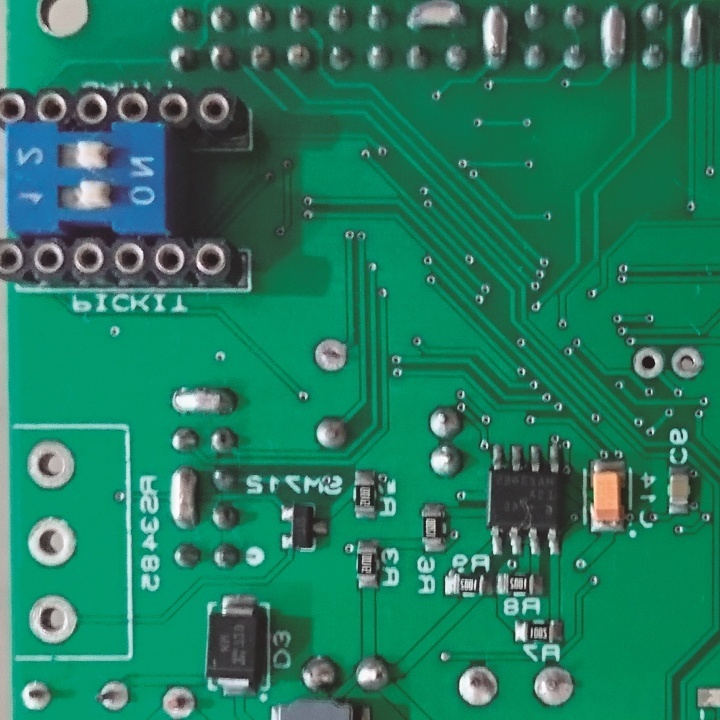F: (21, 438, 76, 492), (26, 515, 77, 568), (27, 593, 77, 646), (456, 663, 500, 711), (531, 665, 577, 708), (93, 678, 130, 714), (314, 336, 347, 376), (19, 678, 53, 715), (669, 345, 704, 380), (631, 346, 664, 380), (161, 686, 196, 718)
P: (480, 1, 513, 73), (675, 1, 708, 73), (166, 465, 199, 532), (170, 383, 238, 415), (404, 1, 470, 32), (599, 3, 629, 71)
